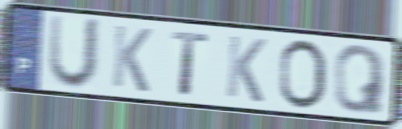K: (223, 32, 269, 106), (109, 22, 154, 95)
O: (276, 37, 329, 112)
Q: (332, 43, 389, 117)
T: (169, 28, 211, 99)
U: (45, 11, 105, 92)
